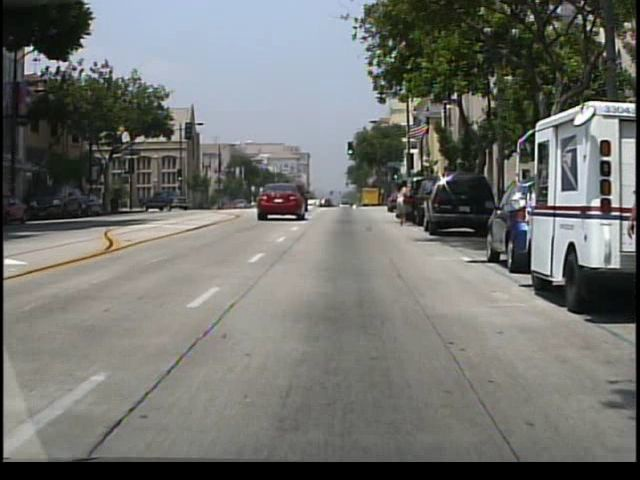person: (391, 179, 413, 225)
